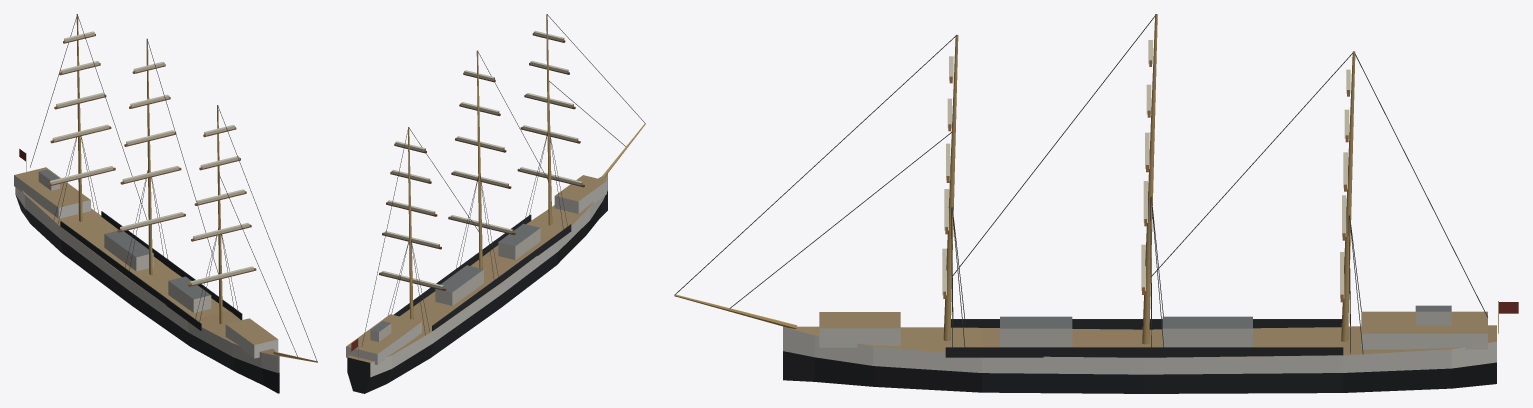
Rendered from balclutha.glb.
3 renders of one model, left to right at view 1: azimuth 30°, elevation 25°; view 2: azimuth 150°, elevation 25°; view 3: azimuth 270°, elevation 25°, orthographic. The views are drawn at different scales.
Visible parts, largest first — view 1: balclutha; view 2: balclutha; view 3: balclutha.
Part boxes in pixels (box(x1,y1,x2,y2)): balclutha: box(14, 14, 317, 393); balclutha: box(346, 14, 645, 393); balclutha: box(674, 14, 1518, 393).
Bounding box in the file's own units: 11.99 × 43.99 × 92.
Materials: 1 (1 with a texture image).
